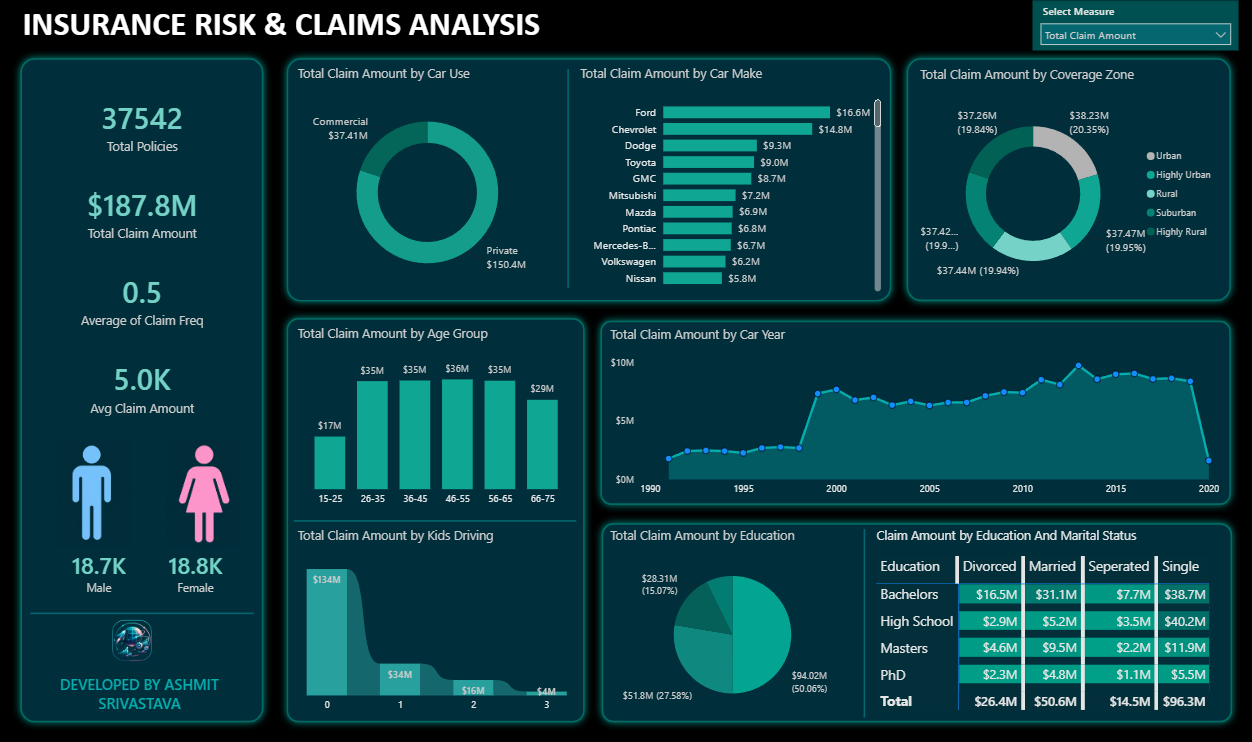

This screenshot's page, from the dashboard's own definition file:
{"tool":"powerbi","page":{"name":"Page 1","canvas":[1600,950],"ordinal":0},"visuals":[{"type":"textbox","box":[23.5,0,678.6,64.6],"z":0},{"type":"shape","box":[15.9,65.3,329.5,866],"z":1000},{"type":"cardVisual","fields":{"Data":["insurance_data_car.Total Policies","insurance_data_car.Total Claim Amount","Avg(insurance_data_car.Claim Freq)","insurance_data_car.Avg Claim Amount"]},"box":[46.2,98.7,270.6,460],"z":2000},{"type":"cardVisual","fields":{"Data":["insurance_data_car.Male Count","insurance_data_car.Female Count"]},"box":[57.3,674.9,260,110],"z":3000},{"type":"image","box":[73.2,558.7,93.9,141.7],"z":4000},{"type":"image","box":[211.7,558.7,93.9,141],"z":5000},{"type":"slicer","fields":{"Values":["Select Measure .Select Measure "]},"box":[1314.9,1.6,262.7,63.7],"z":5001},{"type":"shape","box":[355,65.3,790,330],"z":5002},{"type":"donutChart","fields":{"Category":["insurance_data_car.Car Use"],"Y":["insurance_data_car.Total Claim Amount"]},"box":[374.1,82.8,340.7,294.5],"z":5003},{"type":"clusteredBarChart","fields":{"Category":["insurance_data_car.Car Make"],"Y":["insurance_data_car.Total Claim Amount"]},"box":[733.8,82.8,393.2,294.5],"z":5004},{"type":"shape","box":[1144.5,65.3,433,329.5],"z":5005},{"type":"donutChart","fields":{"Y":["insurance_data_car.Total Claim Amount"],"Category":["insurance_data_car.Coverage Zone"]},"box":[1166.8,84.4,390,294.5],"z":5006},{"type":"shape","box":[355,396.4,399.5,534.9],"z":5007},{"type":"clusteredColumnChart","fields":{"Category":["insurance_data_car.Age Group"],"Y":["insurance_data_car.Total Claim Amount"]},"box":[374.1,413.9,364.5,240.4],"z":5008},{"type":"ribbonChart","fields":{"Category":["insurance_data_car.Kids Driving"],"Y":["insurance_data_car.Total Claim Amount"]},"box":[374.1,671.8,364.5,245.1],"z":5009},{"type":"shape","box":[754.5,399.5,823,254.7],"z":5010},{"type":"areaChart","fields":{"Category":["insurance_data_car.Car Year"],"Y":["insurance_data_car.Total Claim Amount"]},"box":[771.9,415.1,785.6,226.4],"z":5011},{"type":"shape","box":[756.1,657.4,823,273.8],"z":5012},{"type":"pieChart","fields":{"Category":["insurance_data_car.Education"],"Y":["insurance_data_car.Total Claim Amount"]},"box":[772,671.8,322,243],"z":5013},{"type":"pivotTable","title":"Claim Amount by Education And Marital Status","fields":{"Rows":["insurance_data_car.Education"],"Columns":["insurance_data_car.Marital Status"],"Values":["insurance_data_car.Total Claim Amount"]},"box":[1111.1,671.8,466.4,245.1],"z":5014},{"type":"shape","box":[713.1,89.1,20.7,278.6],"z":5015},{"type":"shape","box":[1090.4,674.9,20.7,240.4],"z":5016},{"type":"shape","box":[374.1,654.2,359.8,20.7],"z":5017},{"type":"shape","box":[38.2,772,284.9,20.7],"z":5018},{"type":"image","box":[135.3,783.2,65.3,66.9],"z":5019},{"type":"textbox","box":[38.2,854.8,278.6,60.5],"z":5020}]}

Visuals, with their boxes in screenshot pixels (x1, y1, x2, y2), scaled from the page's 1600x950 canvas onto the 1252x742 screenshot:
textbox: [x1=18, y1=0, x2=549, y2=50]
shape: [x1=12, y1=51, x2=270, y2=727]
cardVisual - insurance_data_car.Total Policies x insurance_data_car.Total Claim Amount: [x1=36, y1=77, x2=248, y2=436]
cardVisual - insurance_data_car.Male Count x insurance_data_car.Female Count: [x1=45, y1=527, x2=248, y2=613]
image: [x1=57, y1=436, x2=131, y2=547]
image: [x1=166, y1=436, x2=239, y2=547]
slicer - Select Measure .Select Measure : [x1=1029, y1=1, x2=1234, y2=51]
shape: [x1=278, y1=51, x2=896, y2=309]
donutChart - insurance_data_car.Car Use x insurance_data_car.Total Claim Amount: [x1=293, y1=65, x2=559, y2=295]
clusteredBarChart - insurance_data_car.Car Make x insurance_data_car.Total Claim Amount: [x1=574, y1=65, x2=882, y2=295]
shape: [x1=896, y1=51, x2=1234, y2=308]
donutChart - insurance_data_car.Total Claim Amount x insurance_data_car.Coverage Zone: [x1=913, y1=66, x2=1218, y2=296]
shape: [x1=278, y1=310, x2=590, y2=727]
clusteredColumnChart - insurance_data_car.Age Group x insurance_data_car.Total Claim Amount: [x1=293, y1=323, x2=578, y2=511]
ribbonChart - insurance_data_car.Kids Driving x insurance_data_car.Total Claim Amount: [x1=293, y1=525, x2=578, y2=716]
shape: [x1=590, y1=312, x2=1234, y2=511]
areaChart - insurance_data_car.Car Year x insurance_data_car.Total Claim Amount: [x1=604, y1=324, x2=1219, y2=501]
shape: [x1=592, y1=513, x2=1236, y2=727]
pieChart - insurance_data_car.Education x insurance_data_car.Total Claim Amount: [x1=604, y1=525, x2=856, y2=715]
"Claim Amount by Education And Marital Status" pivotTable: [x1=869, y1=525, x2=1234, y2=716]
shape: [x1=558, y1=70, x2=574, y2=287]
shape: [x1=853, y1=527, x2=869, y2=715]
shape: [x1=293, y1=511, x2=574, y2=527]
shape: [x1=30, y1=603, x2=253, y2=619]
image: [x1=106, y1=612, x2=157, y2=664]
textbox: [x1=30, y1=668, x2=248, y2=715]
